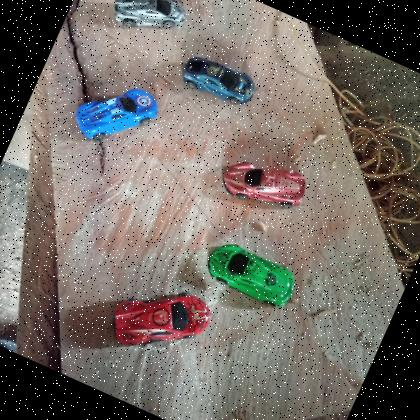Car: (101, 266, 218, 376), (68, 68, 166, 162), (199, 234, 302, 314), (216, 144, 313, 224), (176, 48, 260, 114), (102, 0, 191, 48)
